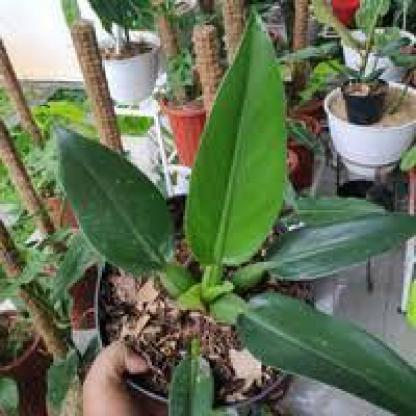Melati: (162, 14, 363, 299), (107, 167, 318, 414)
